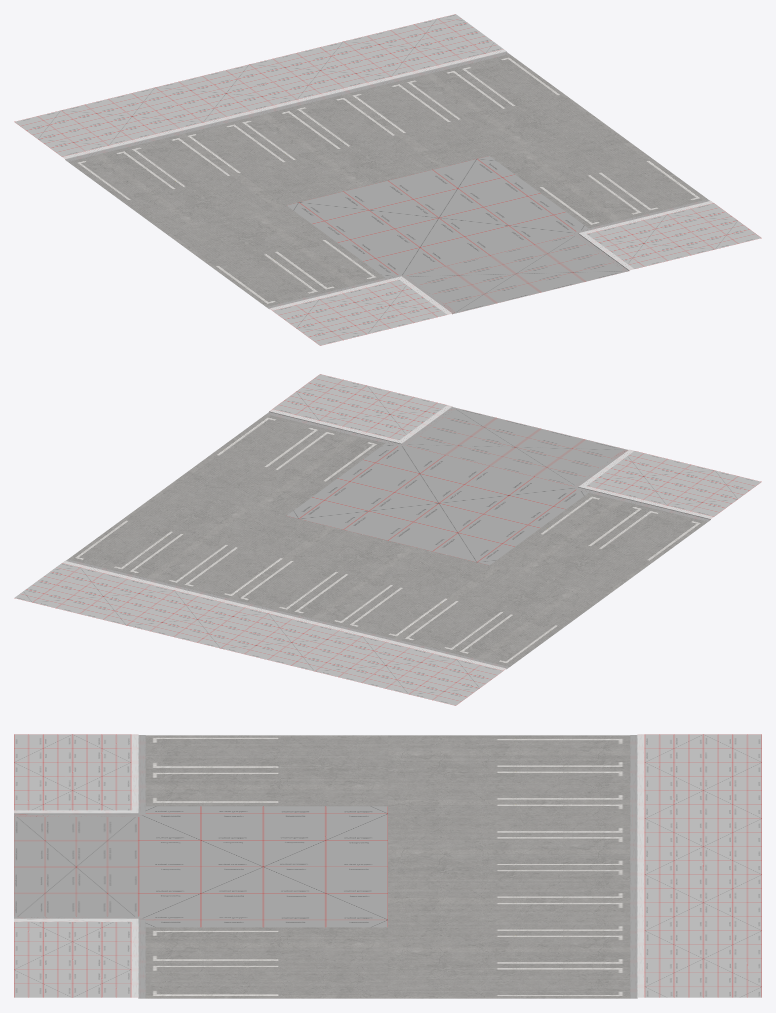
The model's file is Parking_e.FBX.
The picture shows the model from 3 angles, top to bottom: view 1: azimuth 30°, elevation 25°; view 2: azimuth 150°, elevation 25°; view 3: azimuth 270°, elevation 25°; orthographic projection. The views are drawn at different scales.
Visible parts, largest first — view 1: Parking_d; view 2: Parking_d; view 3: Parking_d.
Boxes of the visible parts, x1,y1,x2,y2 form: Parking_d: (14, 14, 761, 345); Parking_d: (14, 374, 761, 705); Parking_d: (14, 734, 761, 998).
Bounding box in the file's own units: 100 × 120 × 0.1384.
